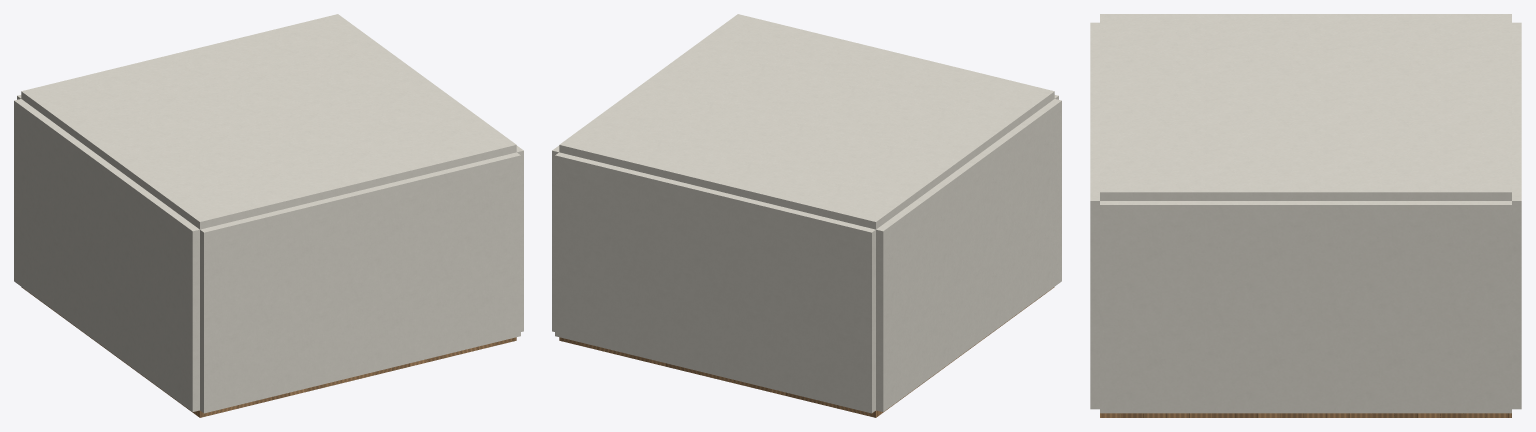
Rendered from room.glb.
3 renders of one model, left to right at view 1: azimuth 30°, elevation 25°; view 2: azimuth 150°, elevation 25°; view 3: azimuth 270°, elevation 25°, orthographic. The views are drawn at different scales.
Visible parts, largest first — view 1: wall_front, ceiling, wall_right, floor, wall_left; view 2: wall_back, ceiling, wall_right, floor, wall_left; view 3: wall_left, ceiling, wall_back, wall_front, floor.
Boxes of the visible parts, x1,y1,x2,y2 form: wall_front: (200,152,520,413); ceiling: (21,14,516,229); wall_right: (14,99,199,411); floor: (21,287,516,417); wall_left: (516,145,523,331); wall_back: (555,152,875,413); ceiling: (559,14,1054,229); wall_right: (876,99,1061,411); floor: (559,287,1054,417); wall_left: (552,145,559,331); wall_left: (1100,201,1511,413); ceiling: (1100,14,1511,200); wall_back: (1512,22,1521,409); wall_front: (1090,22,1099,409); floor: (1100,413,1511,417).
Size of the model in its own units: 4.6 by 2.6 by 4.5.
9 materials, 4 textured.
